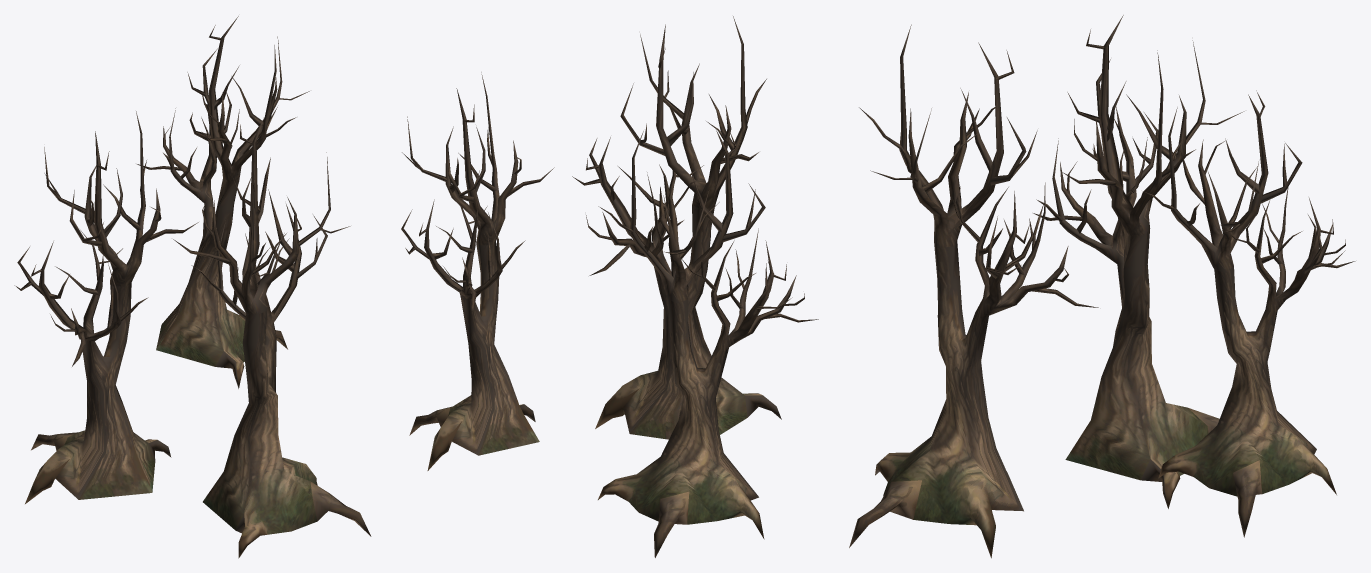
The model's file is plants_tall_tree_trunks.fbx.
The picture shows the model from 3 angles, left to right: view 1: azimuth 30°, elevation 25°; view 2: azimuth 150°, elevation 25°; view 3: azimuth 270°, elevation 25°; orthographic projection. The views are drawn at different scales.
Visible parts, largest first — view 1: Material_#238683193/fancy_tree; view 2: Material_#238683193/fancy_tree; view 3: Material_#238683193/fancy_tree.
Part boxes in pixels (left/top/right/bottom): Material_#238683193/fancy_tree: left=14, top=16, right=371, bottom=558; Material_#238683193/fancy_tree: left=401, top=16, right=818, bottom=557; Material_#238683193/fancy_tree: left=849, top=15, right=1355, bottom=558.
Bounding box in the file's own units: 8.26 × 9.38 × 8.94.
